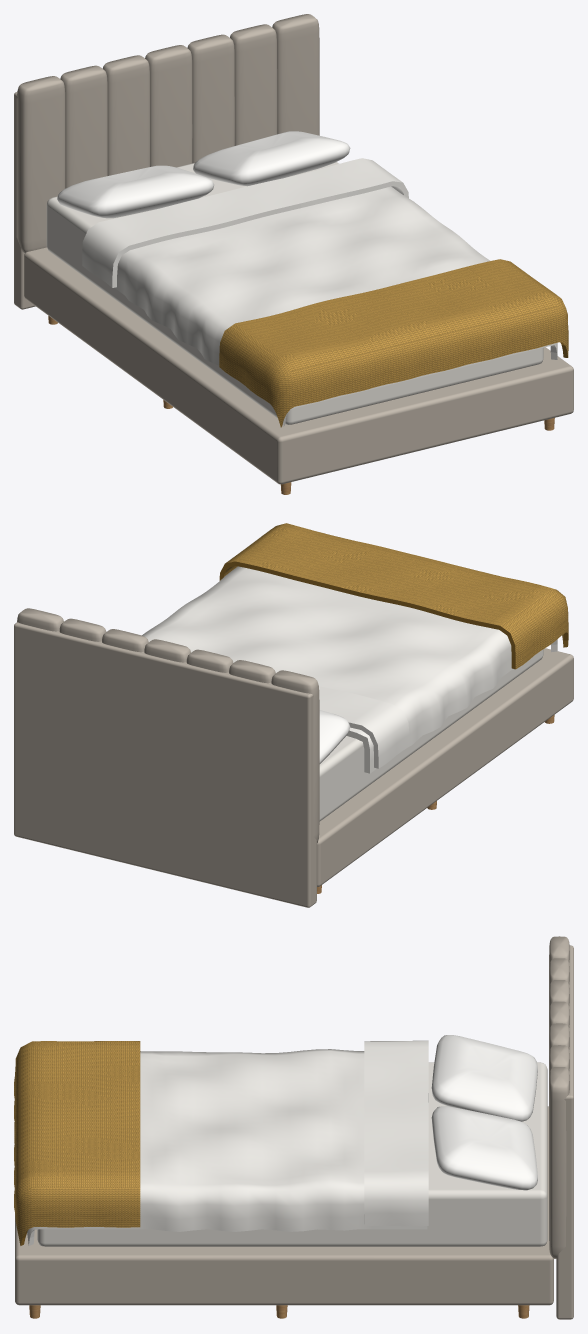
File: bed_queen.glb
3 views of the same model, one above another, from view 1: azimuth 30°, elevation 25°; view 2: azimuth 150°, elevation 25°; view 3: azimuth 270°, elevation 25° (orthographic). The views are drawn at different scales.
Visible parts, largest first — view 1: bed_queen_headboard_channels, bed_queen_frame, bed_queen_duvet, bed_queen_throw, bed_queen_duvet_fold, bed_queen_mattress, bed_queen_pillow_r, bed_queen_pillow_l, bed_queen_headboard; view 2: bed_queen_headboard, bed_queen_duvet, bed_queen_throw, bed_queen_frame, bed_queen_headboard_channels, bed_queen_mattress, bed_queen_duvet_fold, bed_queen_pillow_l; view 3: bed_queen_duvet, bed_queen_frame, bed_queen_throw, bed_queen_mattress, bed_queen_duvet_fold, bed_queen_pillow_l, bed_queen_pillow_r, bed_queen_headboard_channels, bed_queen_headboard.
Part boxes in pixels (x1=…): bed_queen_headboard_channels: x1=16, y1=14, x2=319, y2=253; bed_queen_frame: x1=24, y1=247, x2=573, y2=484; bed_queen_duvet: x1=114, y1=186, x2=557, y2=426; bed_queen_throw: x1=219, y1=259, x2=568, y2=427; bed_queen_duvet_fold: x1=82, y1=158, x2=408, y2=287; bed_queen_mattress: x1=46, y1=162, x2=543, y2=424; bed_queen_pillow_r: x1=193, y1=131, x2=350, y2=186; bed_queen_pillow_l: x1=57, y1=165, x2=214, y2=218; bed_queen_headboard: x1=14, y1=92, x2=35, y2=309; bed_queen_headboard: x1=14, y1=622, x2=316, y2=907; bed_queen_duvet: x1=142, y1=566, x2=557, y2=773; bed_queen_throw: x1=219, y1=523, x2=568, y2=669; bed_queen_frame: x1=317, y1=648, x2=573, y2=886; bed_queen_headboard_channels: x1=17, y1=608, x2=319, y2=842; bed_queen_mattress: x1=319, y1=649, x2=543, y2=821; bed_queen_duvet_fold: x1=319, y1=686, x2=409, y2=768; bed_queen_pillow_l: x1=319, y1=710, x2=350, y2=763; bed_queen_duvet: x1=27, y1=1049, x2=427, y2=1245; bed_queen_frame: x1=15, y1=1106, x2=553, y2=1305; bed_queen_throw: x1=14, y1=1041, x2=140, y2=1245; bed_queen_mattress: x1=37, y1=1062, x2=547, y2=1246; bed_queen_duvet_fold: x1=364, y1=1040, x2=428, y2=1226; bed_queen_pillow_l: x1=431, y1=1035, x2=537, y2=1121; bed_queen_pillow_r: x1=431, y1=1106, x2=537, y2=1190; bed_queen_headboard_channels: x1=549, y1=936, x2=569, y2=1258; bed_queen_headboard: x1=556, y1=945, x2=573, y2=1319.
Size of the model in its own units: 1.44 by 1.05 by 2.23.
Materials: 6 (2 with a texture image).
